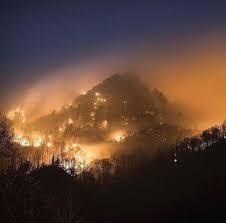fire: (6, 81, 131, 181)
